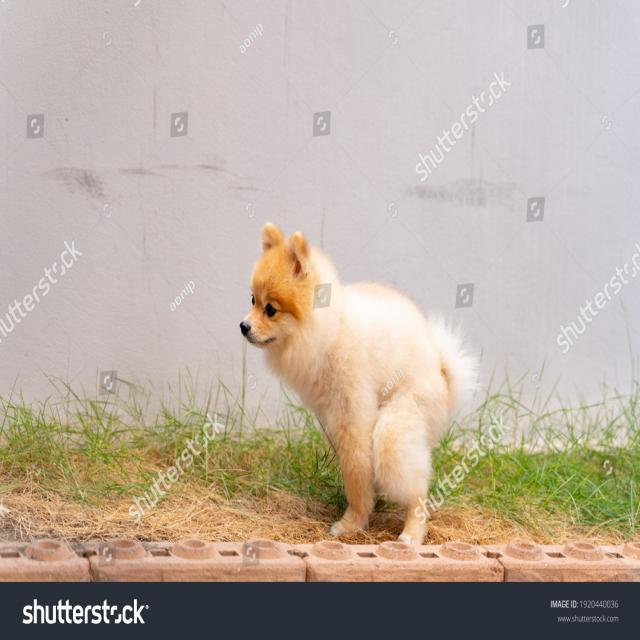Dogpoop: (233, 223, 488, 547)
